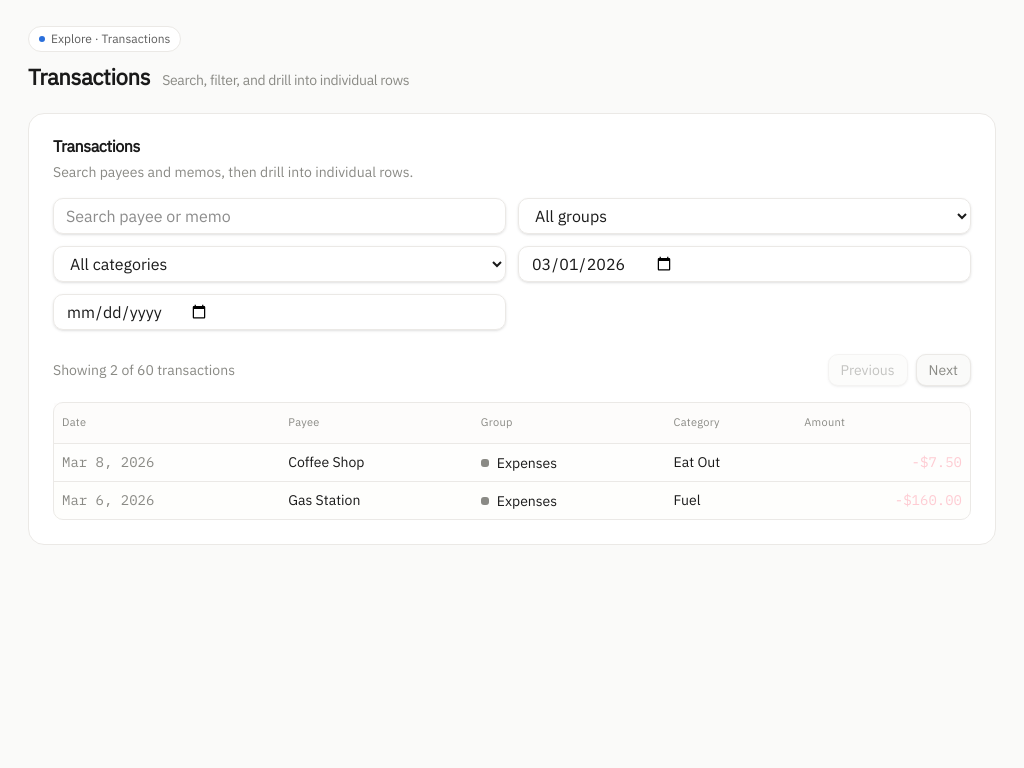
Test case: TransactionsPage › filters by group and resets pagination offset
expect the text "Coffee Shop" is shown: met, box [280,443,473,481]
Select "Bills" in the 1st dropdown at (744, 216), box [518,198,971,234]
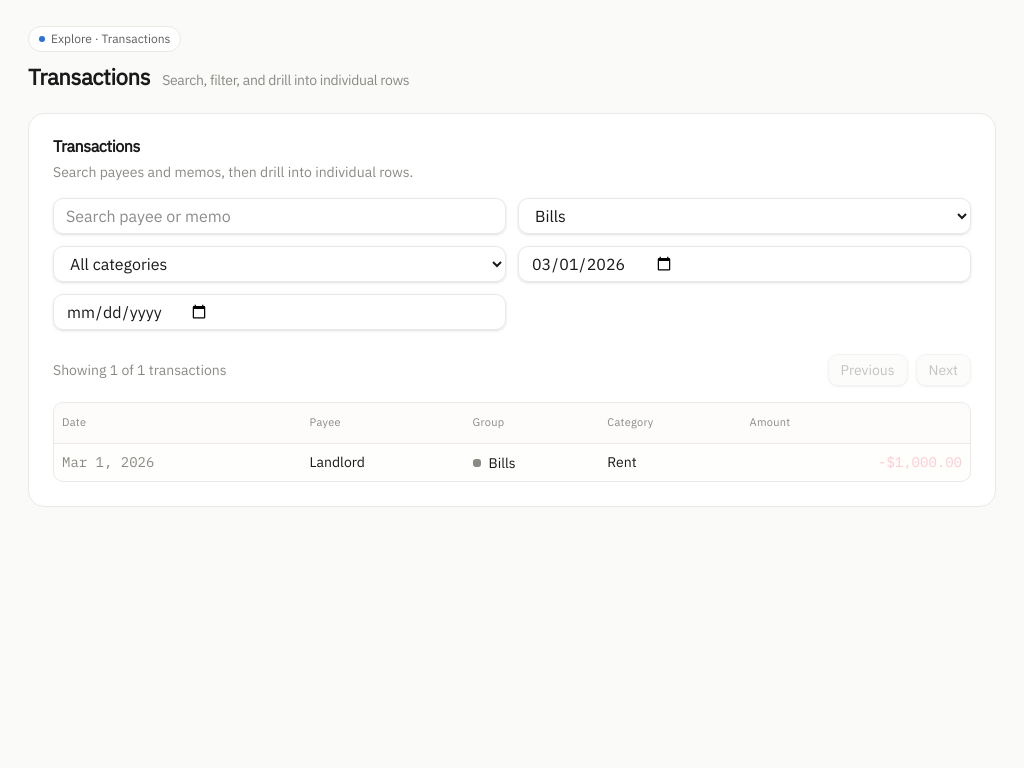
expect the text "Landlord" is shown: met, box [302,443,465,480]
